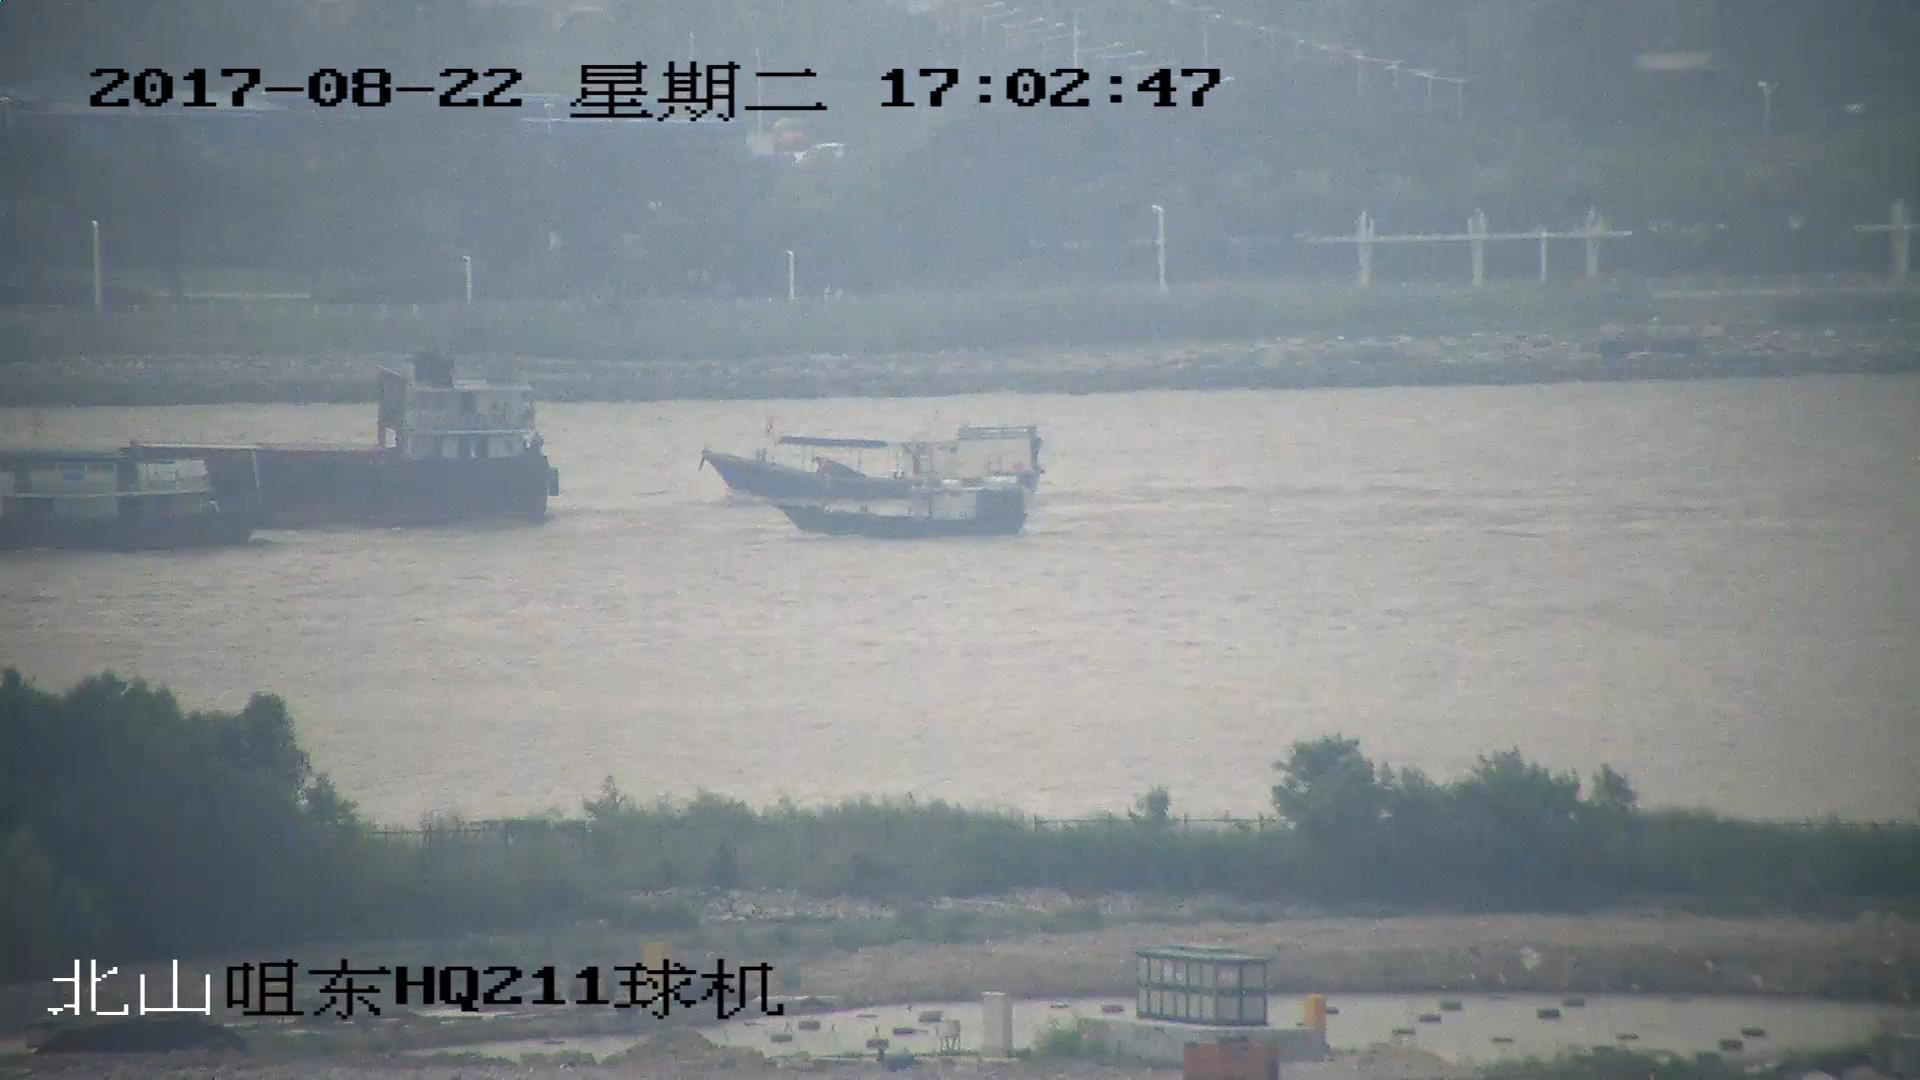fishing boat: (710, 420, 1038, 503), (1, 446, 263, 549), (785, 476, 1018, 535)
general cargo ship: (1, 380, 551, 523)
